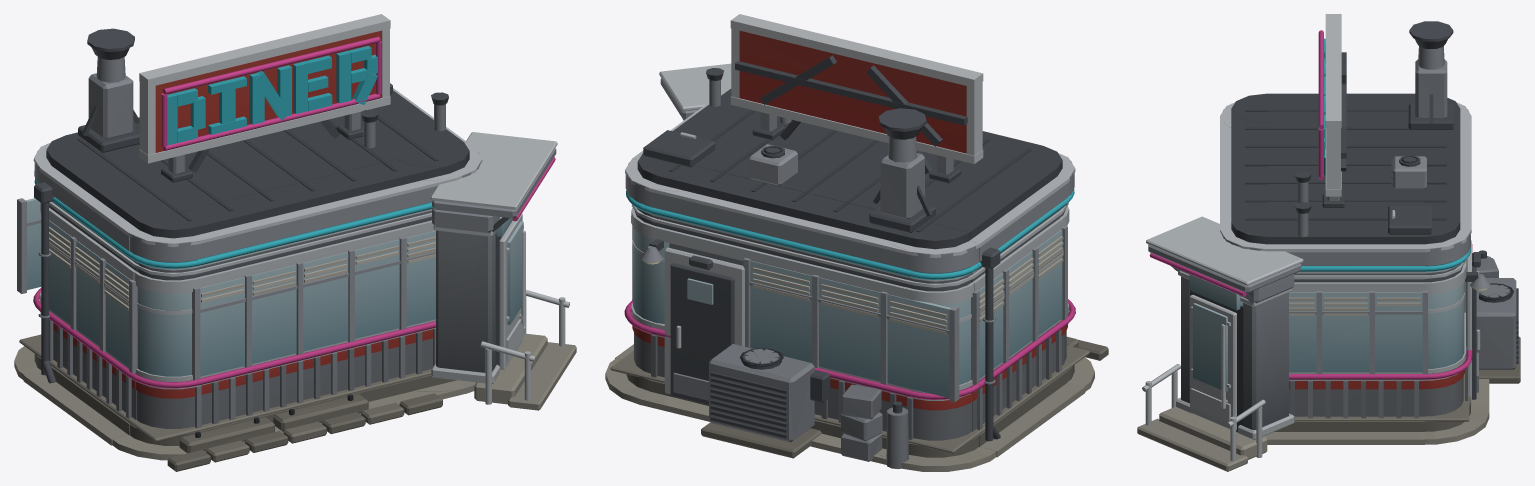
Rendered from diner_01.glb.
3 views of the same model, side by side, from view 1: azimuth 30°, elevation 25°; view 2: azimuth 150°, elevation 25°; view 3: azimuth 270°, elevation 25° (orthographic). The views are drawn at different scales.
Parts seen in each view (by area): view 1: diner_01; view 2: diner_01; view 3: diner_01.
Part boxes in pixels (box(x1,y1,x2,y2)): diner_01: box(14, 14, 576, 471); diner_01: box(605, 14, 1108, 471); diner_01: box(1137, 14, 1520, 471).
Bounding box in the file's own units: 7.56 × 5.31 × 6.27.
